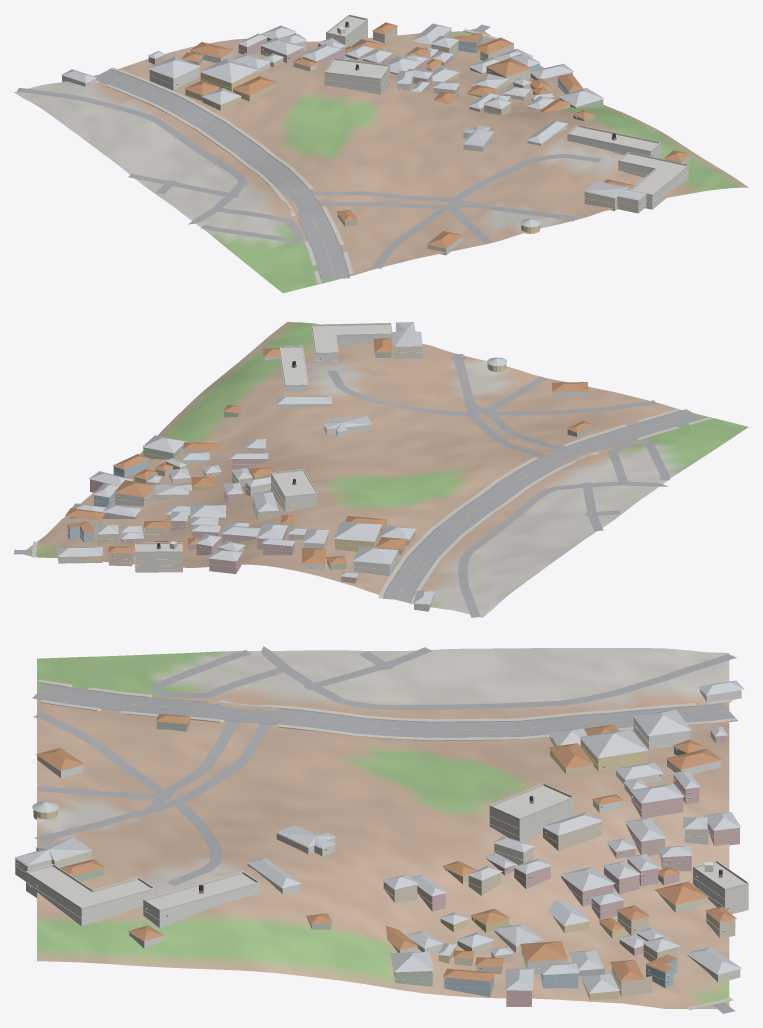
The picture shows the model from 3 angles, top to bottom: view 1: azimuth 30°, elevation 25°; view 2: azimuth 150°, elevation 25°; view 3: azimuth 270°, elevation 25°; orthographic projection. The views are drawn at different scales.
Parts seen in each view (by area): view 1: Terrain-col, Buildings-col, Roads-col, Details, Sidewalks-col; view 2: Terrain-col, Buildings-col, Roads-col, Details, Sidewalks-col; view 3: Terrain-col, Buildings-col, Roads-col, Details, Sidewalks-col.
Part boxes in pixels (x1,y1,x2,y2): Terrain-col: [14, 28, 748, 293]; Buildings-col: [62, 16, 690, 255]; Roads-col: [17, 24, 601, 279]; Details: [87, 14, 688, 206]; Sidewalks-col: [96, 29, 497, 283]; Terrain-col: [23, 322, 748, 617]; Buildings-col: [56, 322, 593, 611]; Roads-col: [14, 354, 702, 617]; Details: [66, 323, 422, 578]; Sidewalks-col: [31, 409, 713, 604]; Terrain-col: [37, 648, 729, 1008]; Buildings-col: [14, 680, 748, 1006]; Roads-col: [32, 646, 736, 1013]; Details: [15, 689, 748, 998]; Sidewalks-col: [37, 679, 737, 1010].
Size of the model in its own units: 265 by 36.77 by 272.
